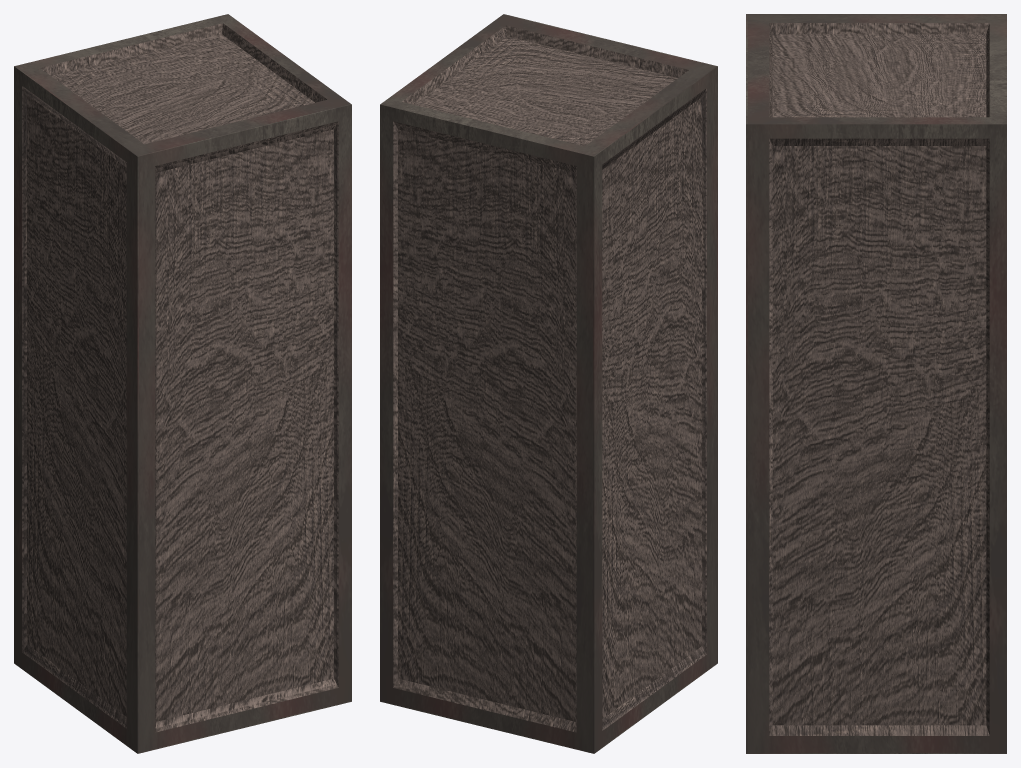
The model's file is WoodCrate2.fbx.
The picture shows the model from 3 angles, left to right: view 1: azimuth 30°, elevation 25°; view 2: azimuth 150°, elevation 25°; view 3: azimuth 270°, elevation 25°; orthographic projection. The views are drawn at different scales.
Visible parts, largest first — view 1: WoodCrate2; view 2: WoodCrate2; view 3: WoodCrate2.
Boxes of the visible parts, x1,y1,x2,y2 form: WoodCrate2: (14,14,351,753); WoodCrate2: (380,14,717,753); WoodCrate2: (746,14,1006,753).
Bounding box in the file's own units: 206 × 550 × 206.
